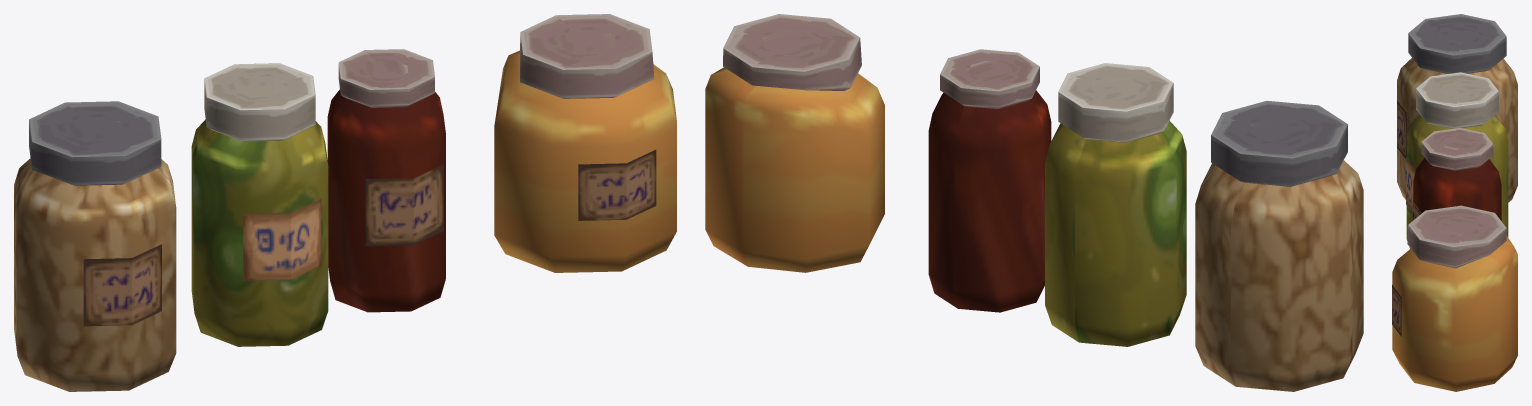
The model's file is Jar_Group2.fbx.
3 views of the same model, side by side, from view 1: azimuth 30°, elevation 25°; view 2: azimuth 150°, elevation 25°; view 3: azimuth 270°, elevation 25° (orthographic). The views are drawn at different scales.
Visible parts, largest first — view 1: Jar_Group2; view 2: Jar_Group2; view 3: Jar_Group2.
Boxes of the visible parts, left/top/right/bottom form: Jar_Group2: left=14, top=14, right=676, bottom=391; Jar_Group2: left=705, top=14, right=1363, bottom=391; Jar_Group2: left=1392, top=14, right=1517, bottom=391.
Size of the model in its own units: 60.18 by 20.65 by 14.3.
1 material, 1 textured.
